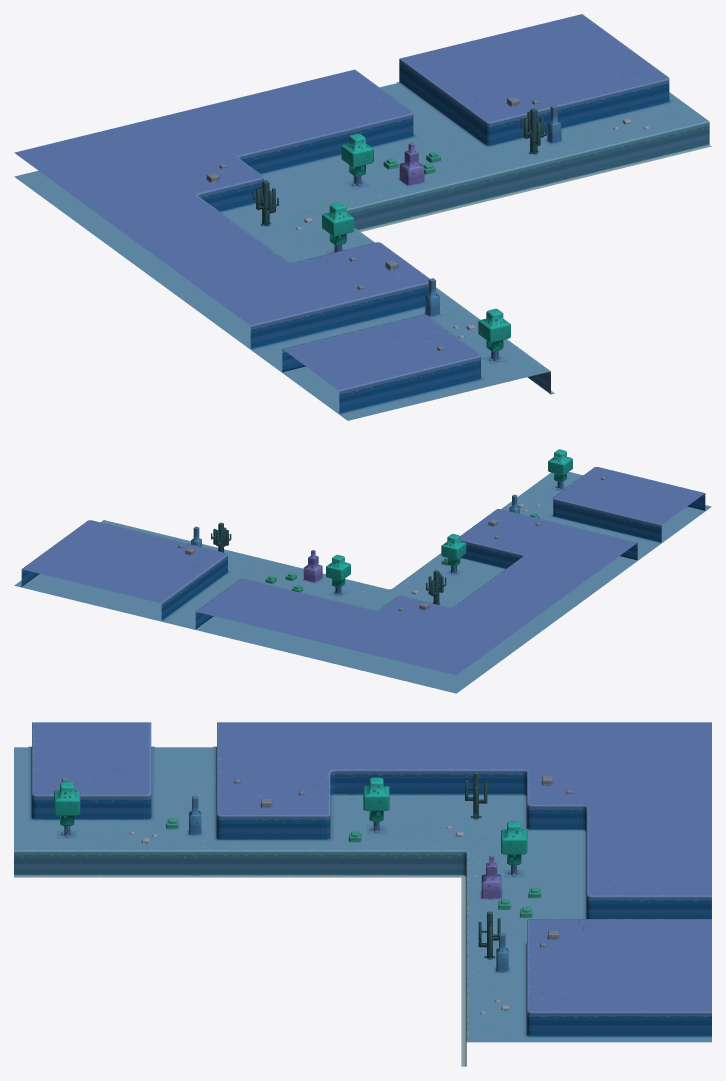
File: C_mountain2_out_RD.fbx
3 renders of one model, top to bottom at view 1: azimuth 30°, elevation 25°; view 2: azimuth 150°, elevation 25°; view 3: azimuth 270°, elevation 25°, orthographic. The views are drawn at different scales.
Parts seen in each view (by area): view 1: C_mountain2_out_RD.001; view 2: C_mountain2_out_RD.001; view 3: C_mountain2_out_RD.001.
Part boxes in pixels (box(x1,y1,x2,y2)): C_mountain2_out_RD.001: box(14, 14, 711, 420); C_mountain2_out_RD.001: box(14, 449, 711, 693); C_mountain2_out_RD.001: box(14, 722, 711, 1066).
Size of the model in its own units: 117 by 13.92 by 117.
